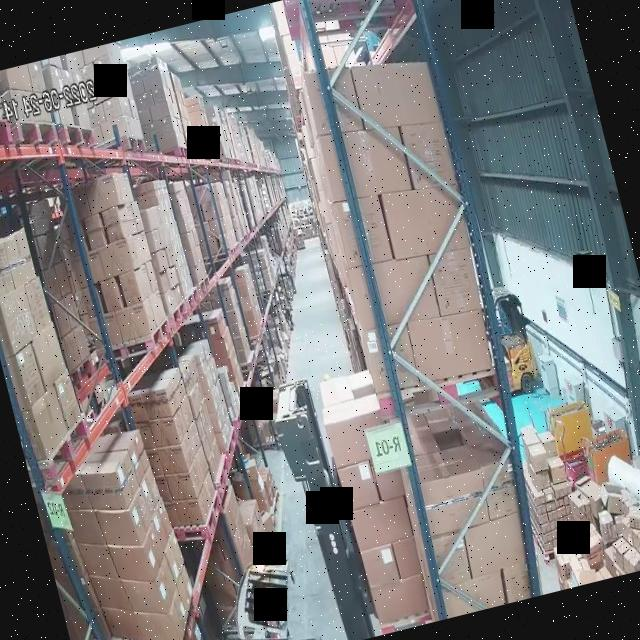box: (406, 310, 494, 385), (349, 256, 438, 328), (382, 186, 469, 259), (351, 60, 438, 128), (459, 514, 530, 580), (418, 470, 491, 534), (425, 247, 483, 317), (349, 496, 414, 552), (401, 122, 454, 188), (115, 549, 173, 608), (80, 450, 138, 508), (105, 522, 161, 579), (96, 487, 150, 542), (27, 384, 68, 452), (371, 576, 429, 624), (131, 591, 183, 637), (30, 324, 66, 386), (339, 462, 379, 513), (1, 229, 36, 285), (361, 544, 401, 585), (571, 520, 607, 563), (53, 370, 80, 426), (24, 278, 51, 332), (97, 239, 133, 277), (84, 176, 120, 214), (115, 302, 150, 341), (596, 479, 628, 515), (142, 388, 171, 419), (100, 205, 124, 241), (166, 471, 195, 500), (150, 418, 179, 446), (159, 444, 187, 473), (525, 442, 549, 474), (83, 214, 105, 248), (119, 271, 141, 305), (100, 279, 121, 313), (596, 508, 617, 541), (64, 332, 81, 369), (176, 500, 201, 525), (94, 76, 119, 101), (54, 262, 71, 296), (546, 458, 568, 484), (73, 325, 89, 360), (101, 94, 122, 120), (92, 54, 113, 80), (28, 203, 44, 235), (623, 502, 640, 531), (538, 430, 558, 454), (141, 206, 160, 231), (141, 70, 163, 90), (148, 101, 170, 120), (210, 337, 228, 360), (138, 90, 154, 110), (206, 318, 221, 337), (151, 85, 166, 104), (158, 117, 173, 134), (201, 203, 214, 221), (240, 295, 253, 312), (234, 268, 246, 285), (237, 282, 249, 298)
